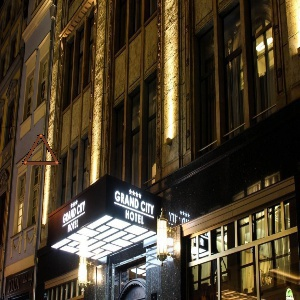triangle: (17, 131, 66, 171)
